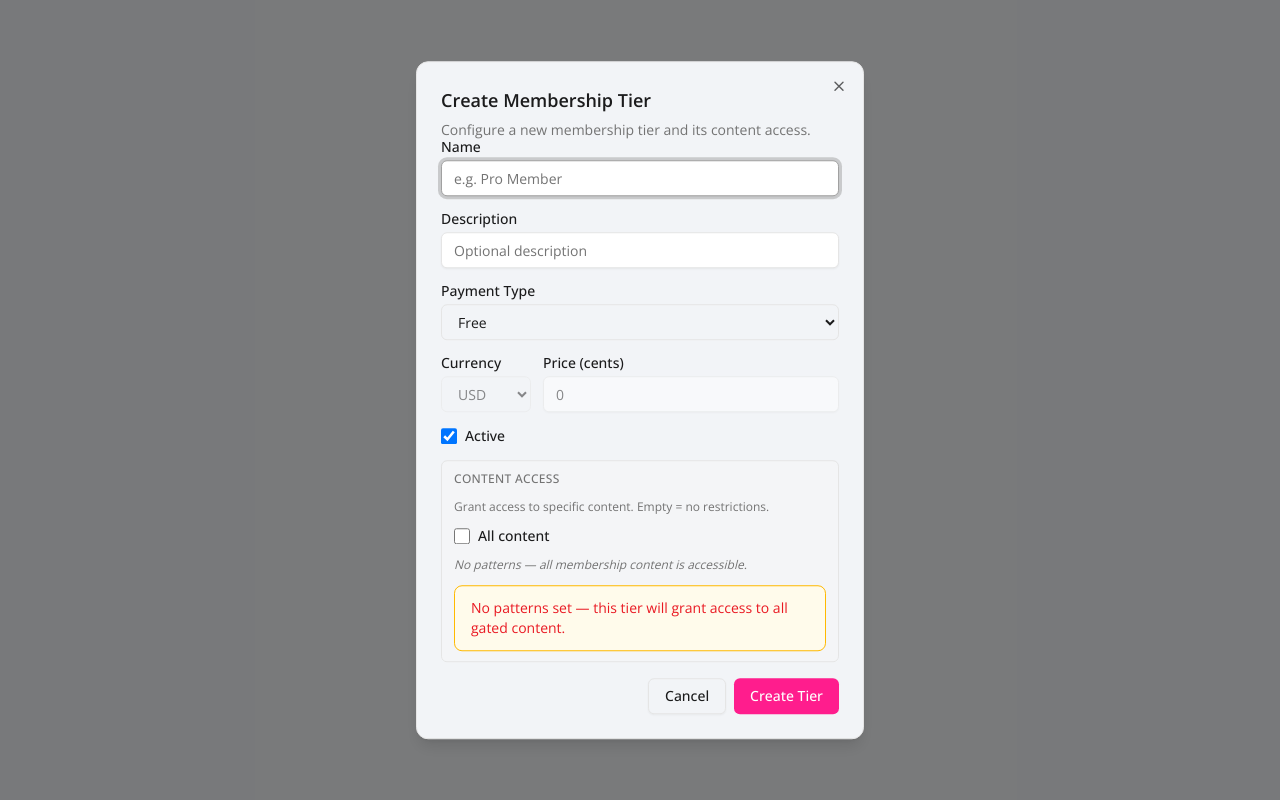
Test: TierFormDialog — Content Access section › shows description nudge when patterns change and description is set
In the field labelled "Description": (640, 250) left=441, top=232, right=839, bottom=268, type "Some description"
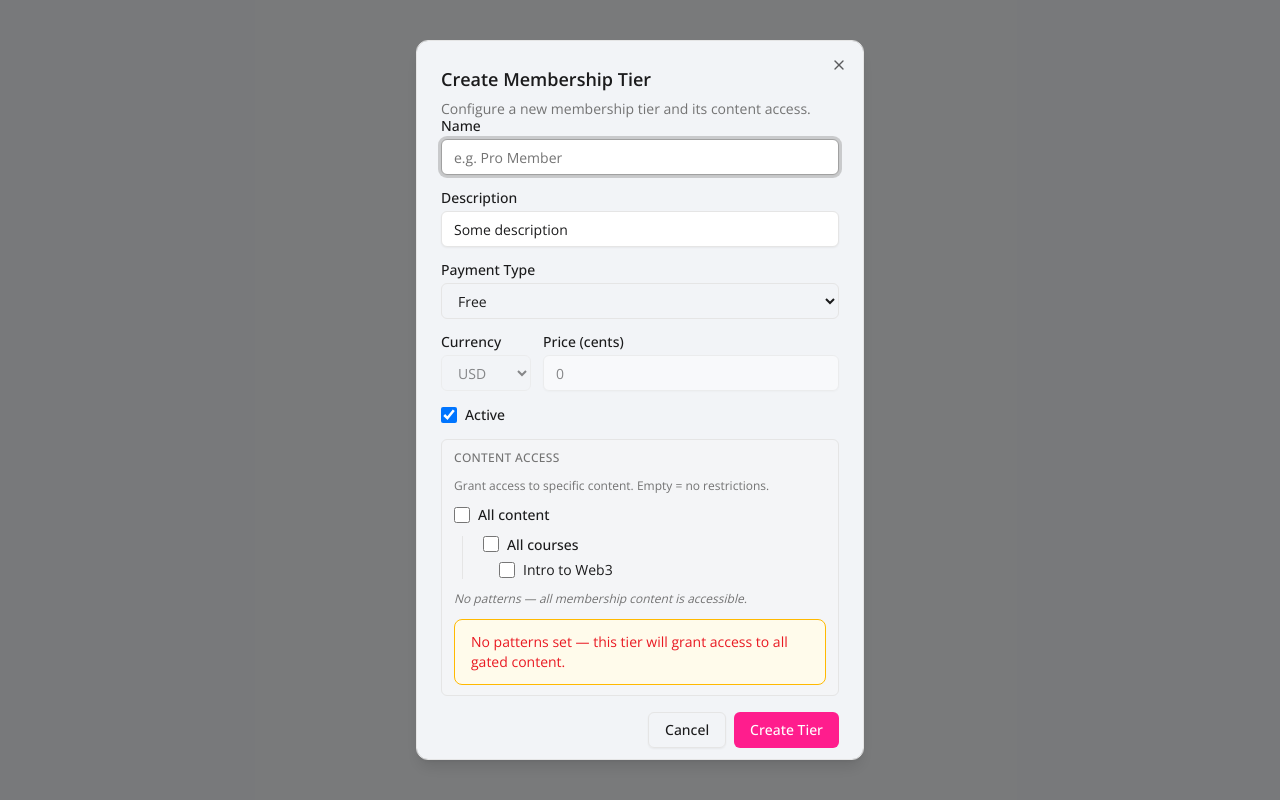
Check: the checkbox labelled "All courses" is shown
Click the checkbox labelled "All courses": (491, 544) left=483, top=536, right=499, bottom=552
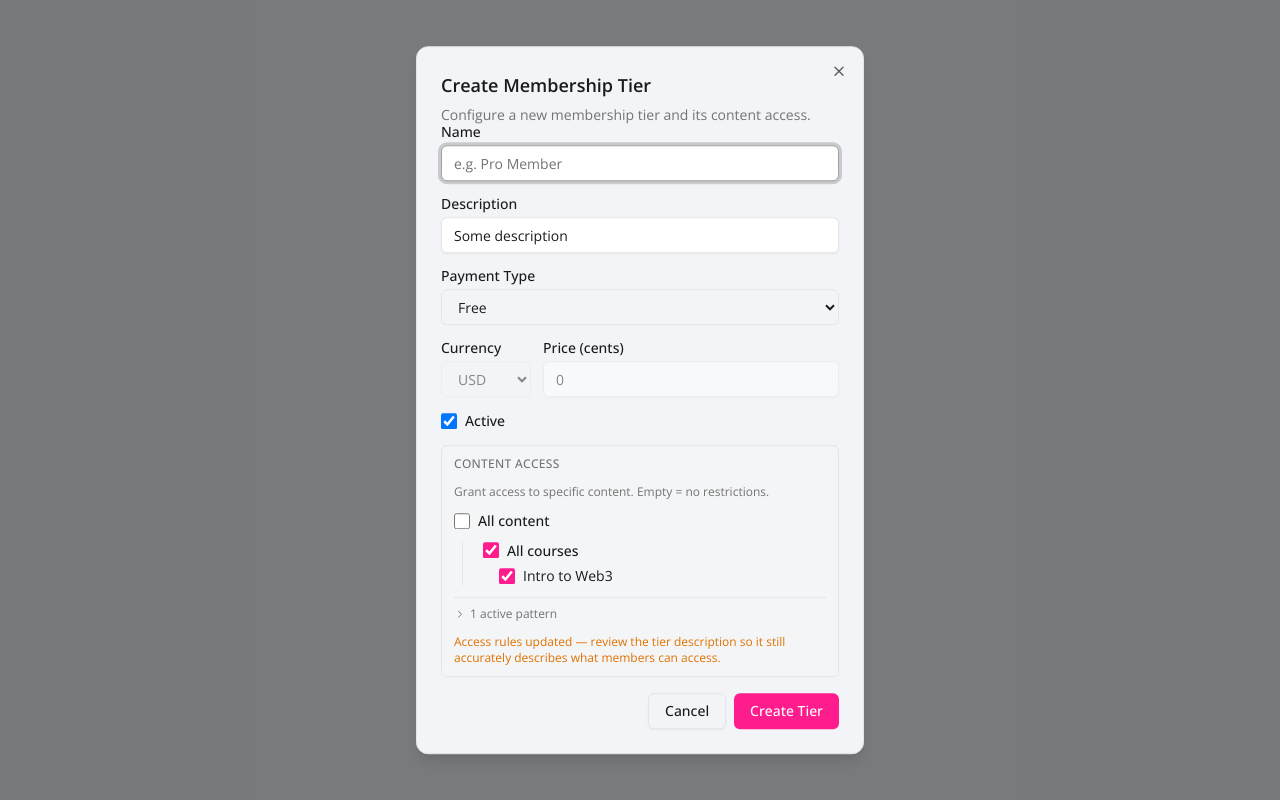
Check: the text "Access rules updated" is shown, box left=454, top=633, right=785, bottom=666
